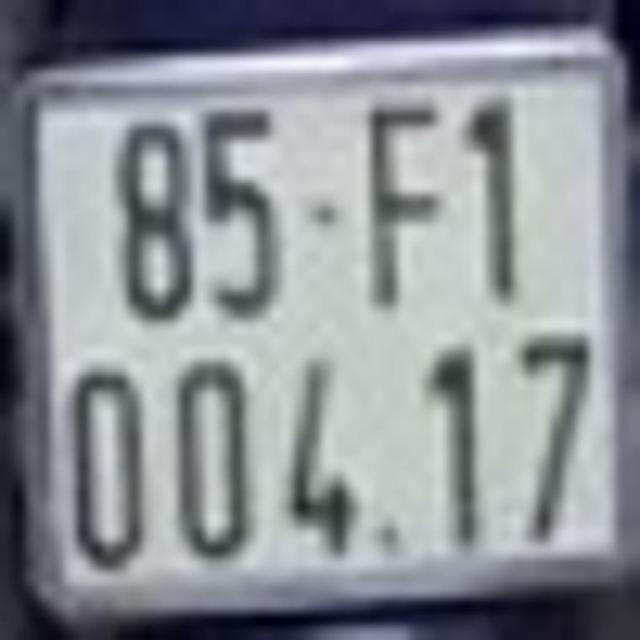0: (69, 362, 146, 570), (176, 352, 250, 560)
1: (465, 91, 523, 302), (429, 340, 483, 548)
4: (286, 350, 360, 560)
5: (200, 101, 284, 322)
7: (518, 330, 592, 544)
8: (117, 116, 195, 321)
F: (364, 99, 446, 309)
